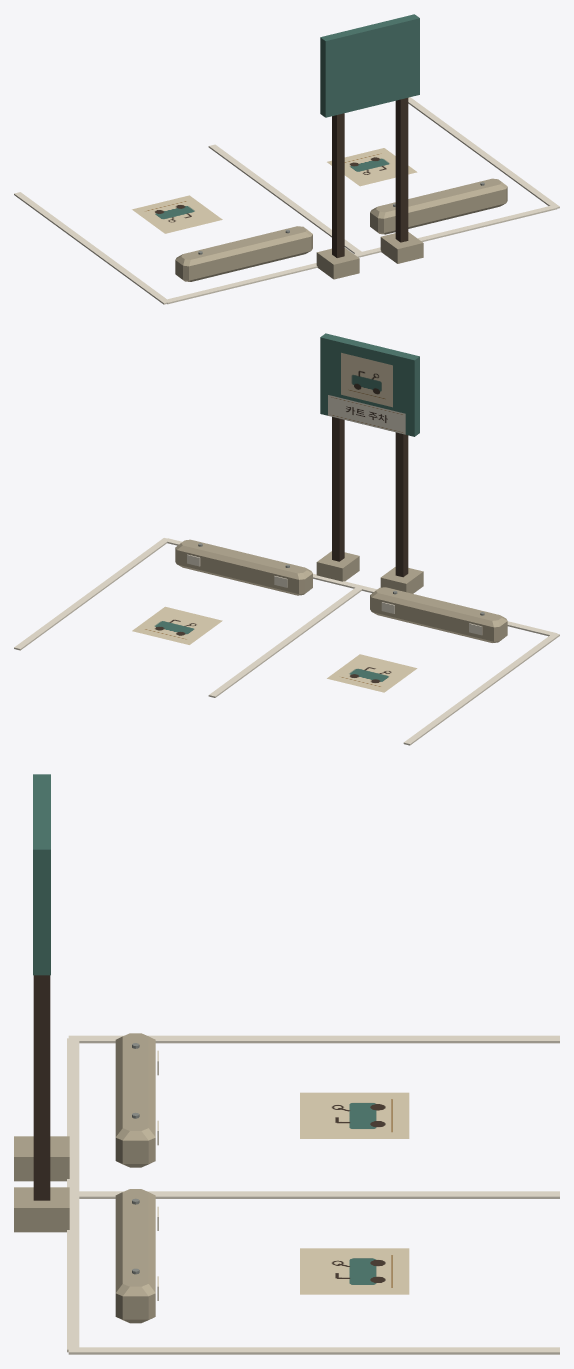
The model's file is W09_Kart_Parking_Bays.fbx.
3 views of the same model, one above another, from view 1: azimuth 30°, elevation 25°; view 2: azimuth 150°, elevation 25°; view 3: azimuth 270°, elevation 25° (orthographic). The views are drawn at different scales.
Visible parts, largest first — view 1: Parking_Sign, Wheel_Stops, Parking_Markings, Ground_Icons; view 2: Parking_Sign, Wheel_Stops, Parking_Markings, Ground_Icons, Front_Parking_Icon, Front_Parking_Label; view 3: Parking_Markings, Parking_Sign, Wheel_Stops, Ground_Icons.
Boxes of the visible parts, x1,y1,x2,y2 form: Parking_Sign: [316, 14, 423, 279]; Wheel_Stops: [175, 178, 507, 281]; Parking_Markings: [14, 97, 559, 304]; Ground_Icons: [132, 148, 417, 233]; Parking_Sign: [316, 333, 423, 593]; Wheel_Stops: [175, 539, 507, 642]; Parking_Markings: [14, 538, 559, 745]; Ground_Icons: [132, 606, 417, 692]; Front_Parking_Icon: [341, 352, 392, 407]; Front_Parking_Label: [328, 395, 405, 434]; Parking_Markings: [67, 1035, 559, 1354]; Parking_Sign: [14, 774, 69, 1232]; Wheel_Stops: [115, 1033, 158, 1323]; Ground_Icons: [300, 1092, 409, 1294].
Size of the model in its own units: 3.36 by 1.9 by 2.45.
6 materials, 1 textured.
